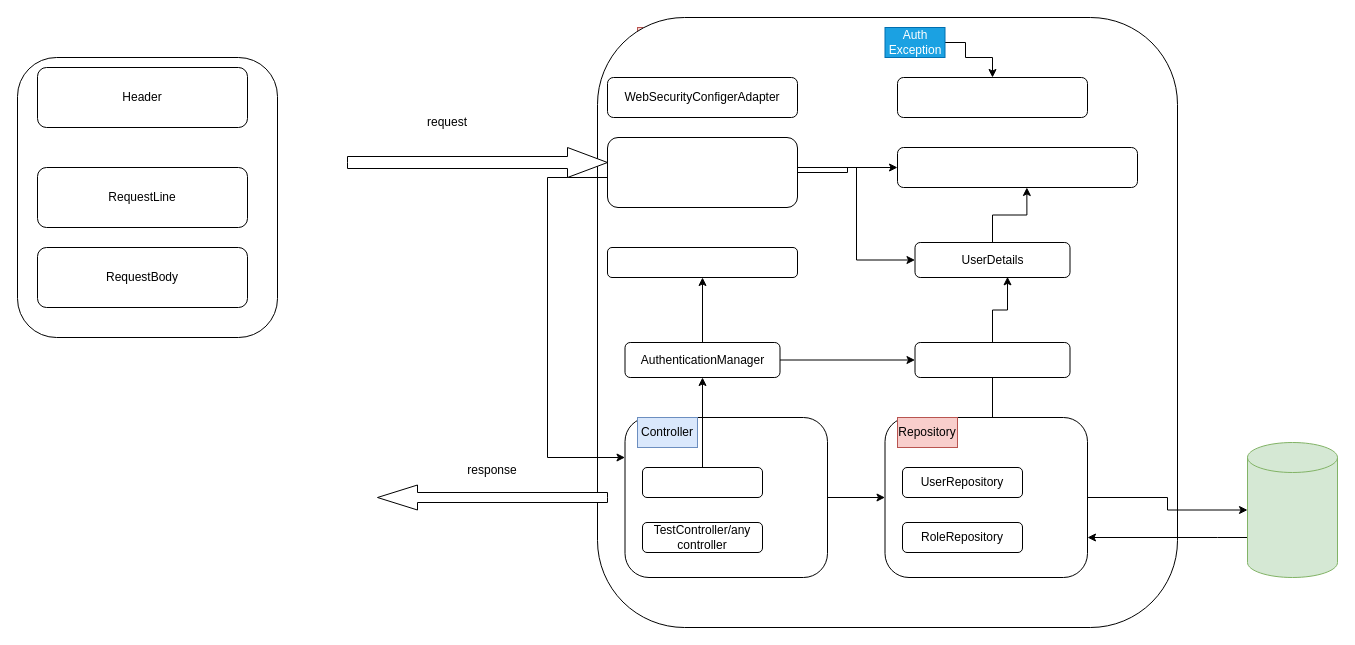
Some shapes in this 1355 by 645 pixel diagram are drawn without their labels. The centre of each missing label's shape, as x and y in pixels:
"AuthController" goes at (702,482).
"AuthenticationEntryPoint" goes at (992,97).
"MySQL DB zee5appjpa" goes at (1292,510).
"OncePerRequestFilter" goes at (702,172).
"PasswordEncoder" goes at (702,262).
"UserDetailsService" goes at (992,360).
"UsernamePasswordAuthenticationToken" goes at (1017,167).
